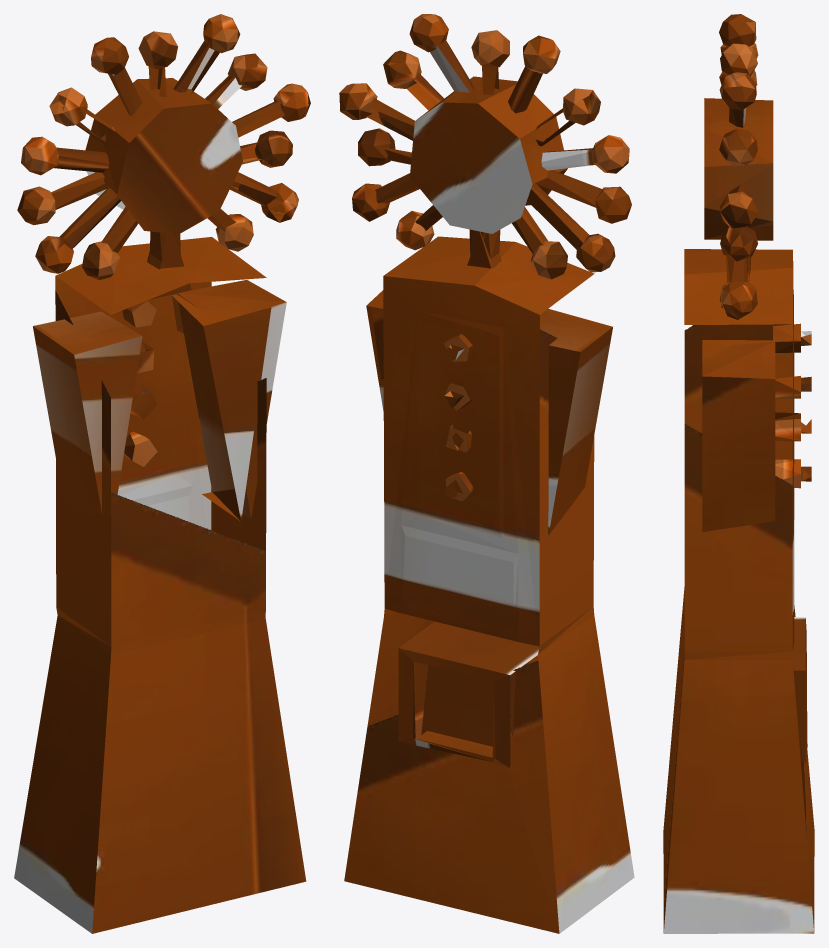
Rendered from Vampire Fangs.fbx.
3 views of the same model, side by side, from view 1: azimuth 30°, elevation 25°; view 2: azimuth 150°, elevation 25°; view 3: azimuth 270°, elevation 25° (orthographic).
Visible parts, largest first — view 1: Vampire Fangs; view 2: Vampire Fangs; view 3: Vampire Fangs.
Boxes of the visible parts, x1=… form: Vampire Fangs: x1=14, y1=14, x2=310, y2=933; Vampire Fangs: x1=339, y1=14, x2=634, y2=933; Vampire Fangs: x1=663, y1=14, x2=814, y2=933.
Size of the model in its own units: 9619 by 27140 by 4412.
